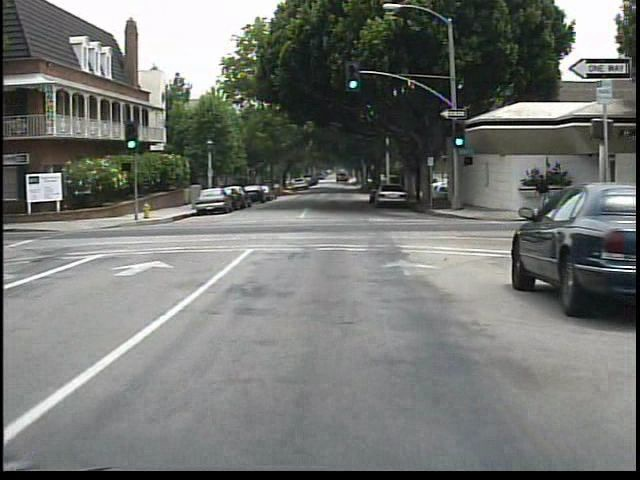person: (531, 170, 560, 221)
